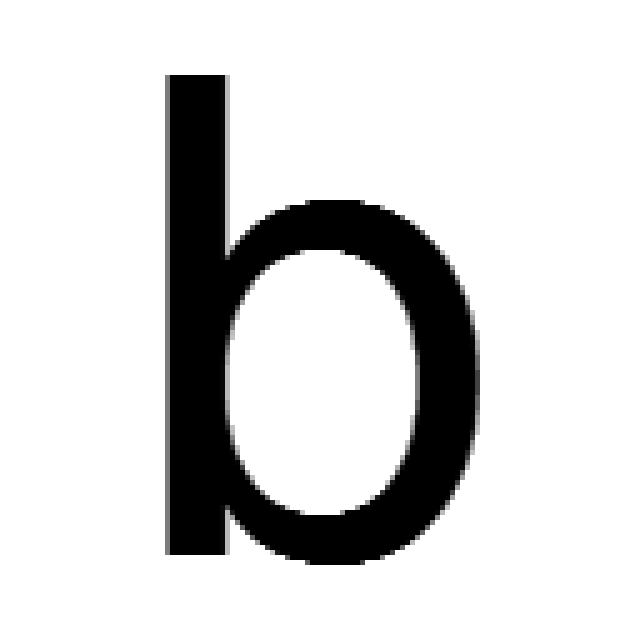B: (165, 75, 485, 570)
